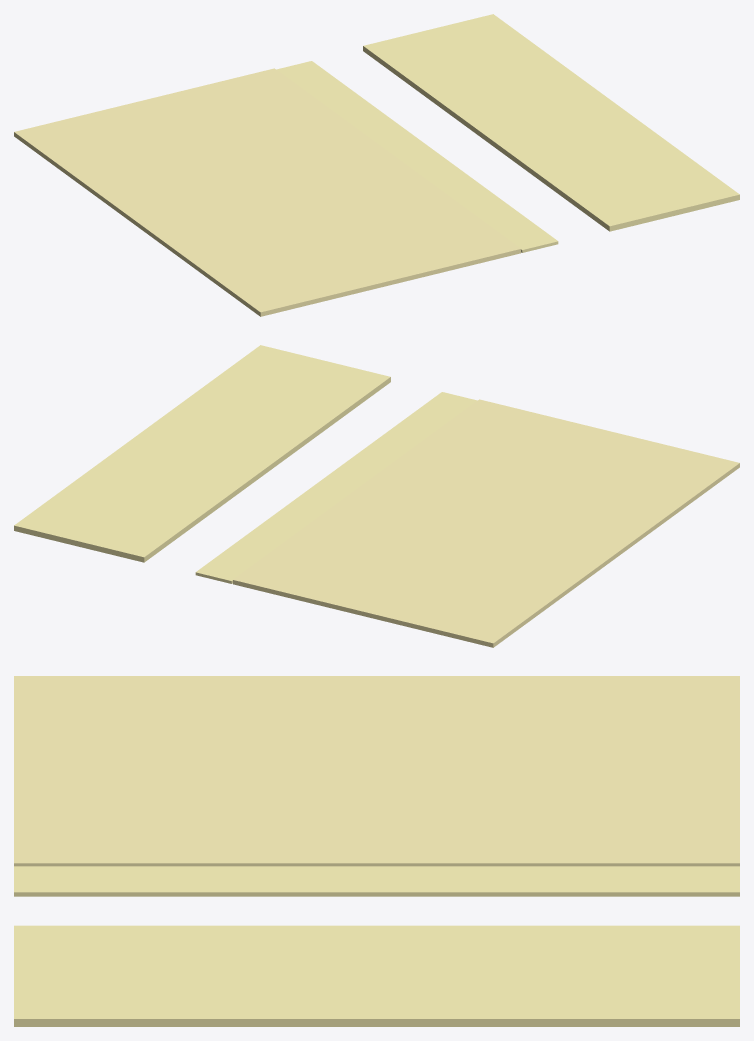
Rendered from road_eroded_shoulder_edge.glb.
3 renders of one model, top to bottom at view 1: azimuth 30°, elevation 25°; view 2: azimuth 150°, elevation 25°; view 3: azimuth 270°, elevation 25°, orthographic. The views are drawn at different scales.
Visible parts, largest first — view 1: travel_lane, outer_shoulder, dropoff_fill; view 2: travel_lane, outer_shoulder, dropoff_fill; view 3: travel_lane, outer_shoulder, dropoff_fill.
Boxes of the visible parts, x1,y1,x2,y2 form: travel_lane: [14, 68, 520, 316]; outer_shoulder: [363, 14, 739, 231]; dropoff_fill: [276, 61, 558, 252]; travel_lane: [233, 399, 739, 647]; outer_shoulder: [14, 345, 390, 562]; dropoff_fill: [195, 392, 477, 583]; travel_lane: [14, 676, 739, 866]; outer_shoulder: [14, 925, 739, 1026]; dropoff_fill: [14, 866, 739, 896].
Bounding box in the file's own units: 4.49 × 0.048 × 4.
